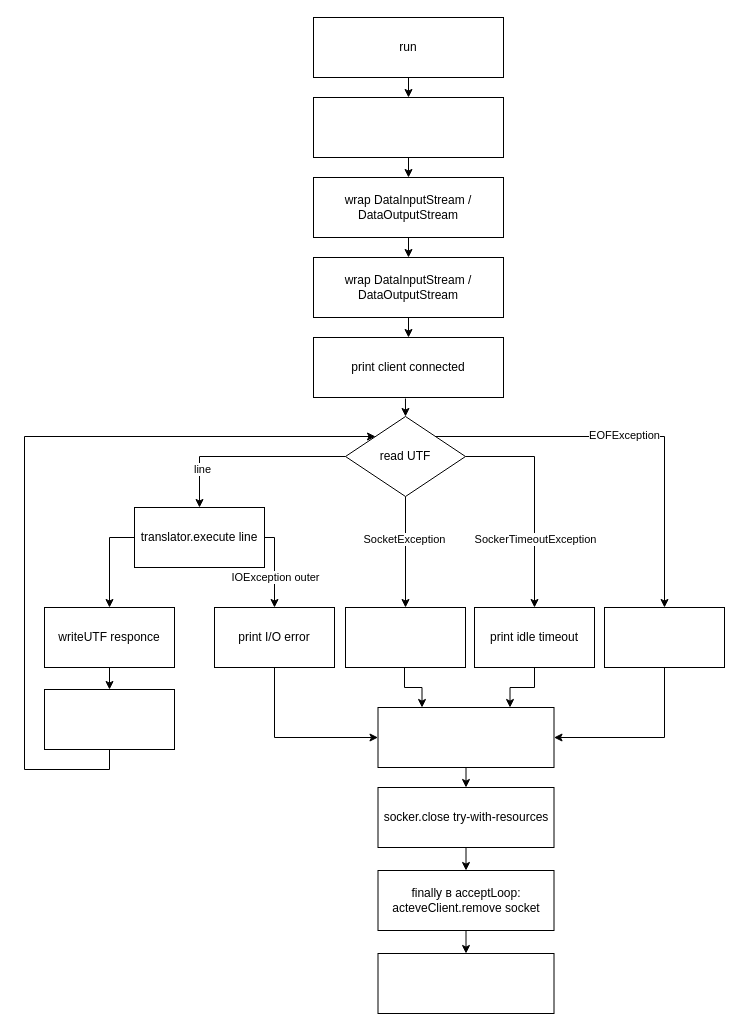
Image size: 742x1031. Some labels were removed from this diagram. The centre of each missing label's shape, as x and y in pixels:
flush: the point at 109,719
print disconnected: the point at 664,637
print socket closed: the point at 405,637
return: the point at 465,737
socket.setSo TimeOut 30 мин.: the point at 408,127
поток возвращается в пул: the point at 465,983
